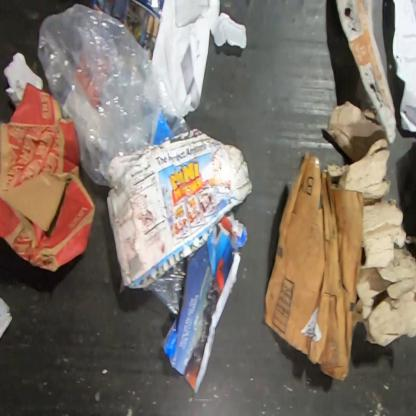cardboard: (263, 150, 364, 382), (322, 99, 415, 348), (0, 82, 97, 273)
soft_plastic: (37, 3, 192, 187), (142, 257, 186, 318)
